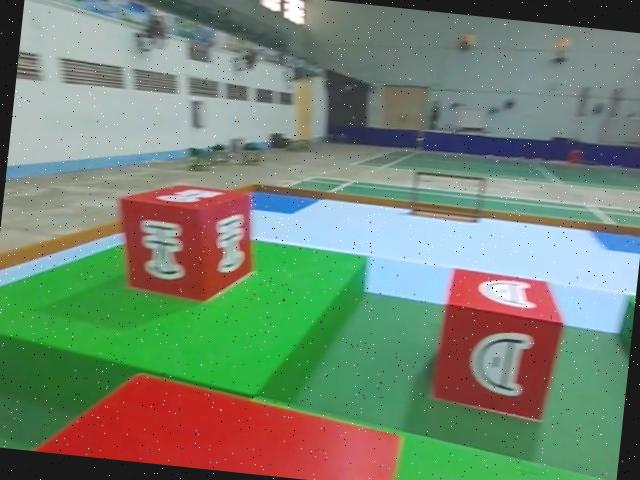R2 Real: (426, 263, 570, 425), (108, 173, 263, 308)
